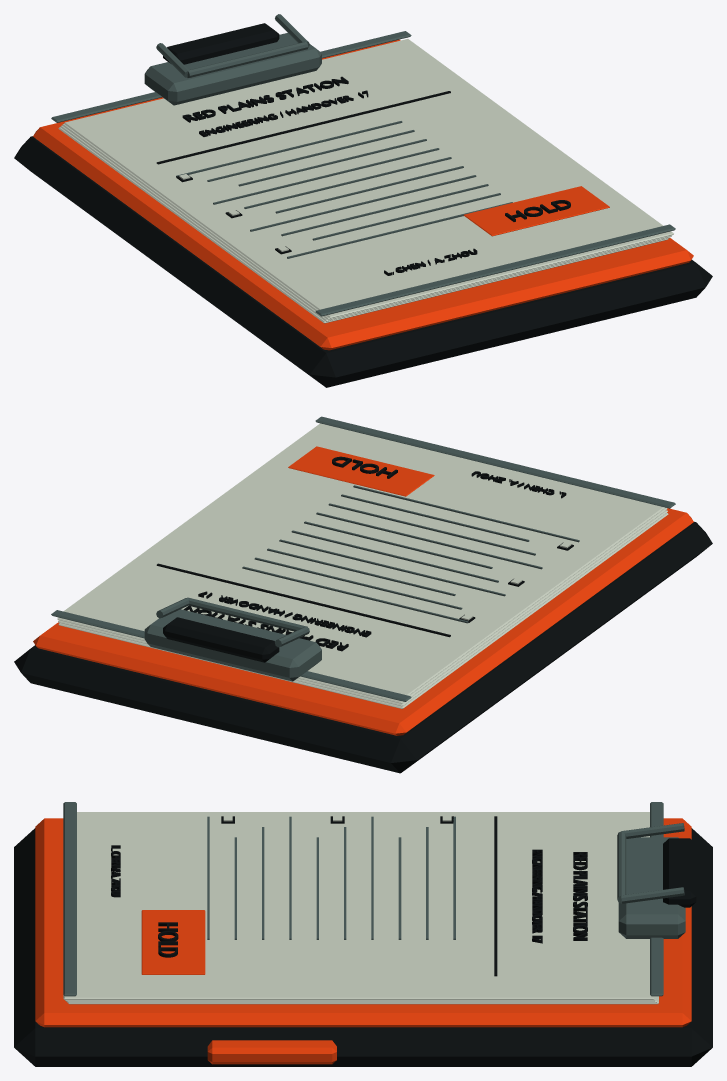
The model's file is SM_MP_Incident_Clipboard.fbx.
3 views of the same model, one above another, from view 1: azimuth 30°, elevation 25°; view 2: azimuth 150°, elevation 25°; view 3: azimuth 270°, elevation 25° (orthographic). The views are drawn at different scales.
Visible parts, largest first — view 1: SM_MP_Incident_Clipboard; view 2: SM_MP_Incident_Clipboard; view 3: SM_MP_Incident_Clipboard.
Part boxes in pixels (x1,y1,x2,y2): SM_MP_Incident_Clipboard: [14, 14, 712, 387]; SM_MP_Incident_Clipboard: [14, 416, 712, 773]; SM_MP_Incident_Clipboard: [14, 802, 712, 1066].
Bounding box in the file's own units: 34.65 × 46 × 8.1.
1 material, 1 textured.
